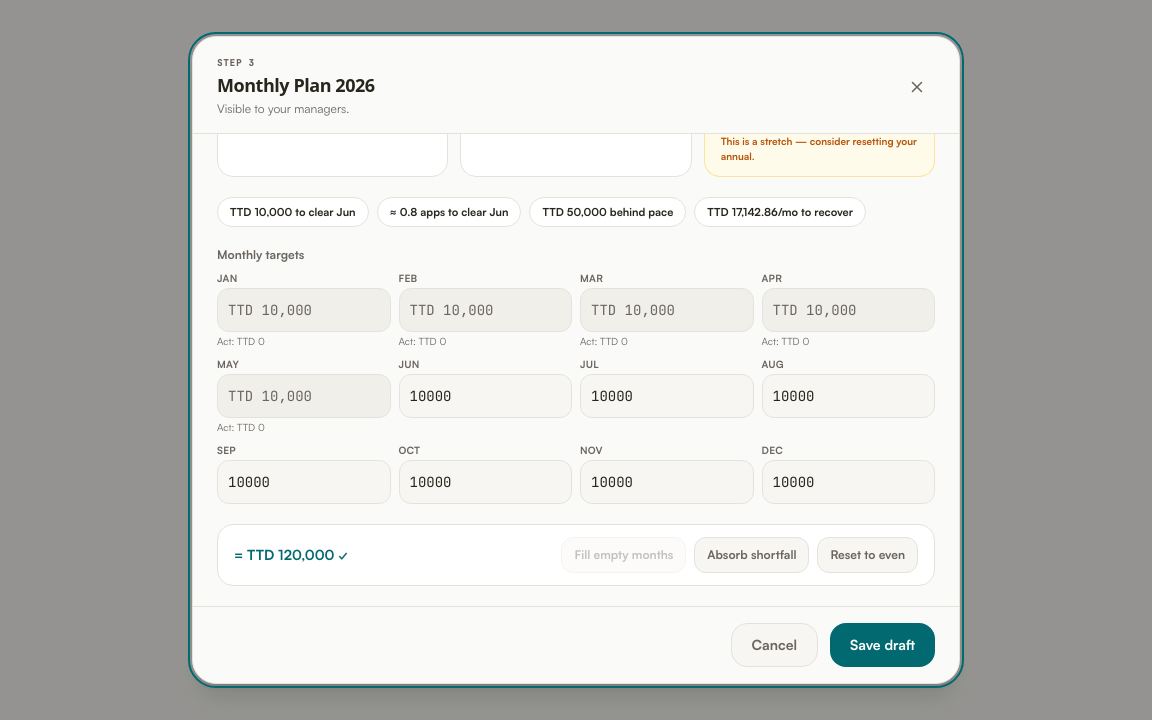
Test: MonthlyPlanModal — edit behavior › fill-empty-months fills cleared months and re-enables Save
(page scrolled)
Clear December (the last editable/future month) to 0 → under-allocated.
Replace the text in the number field named "Dec target" with "0" at (848, 482), box [762,460,935,504]
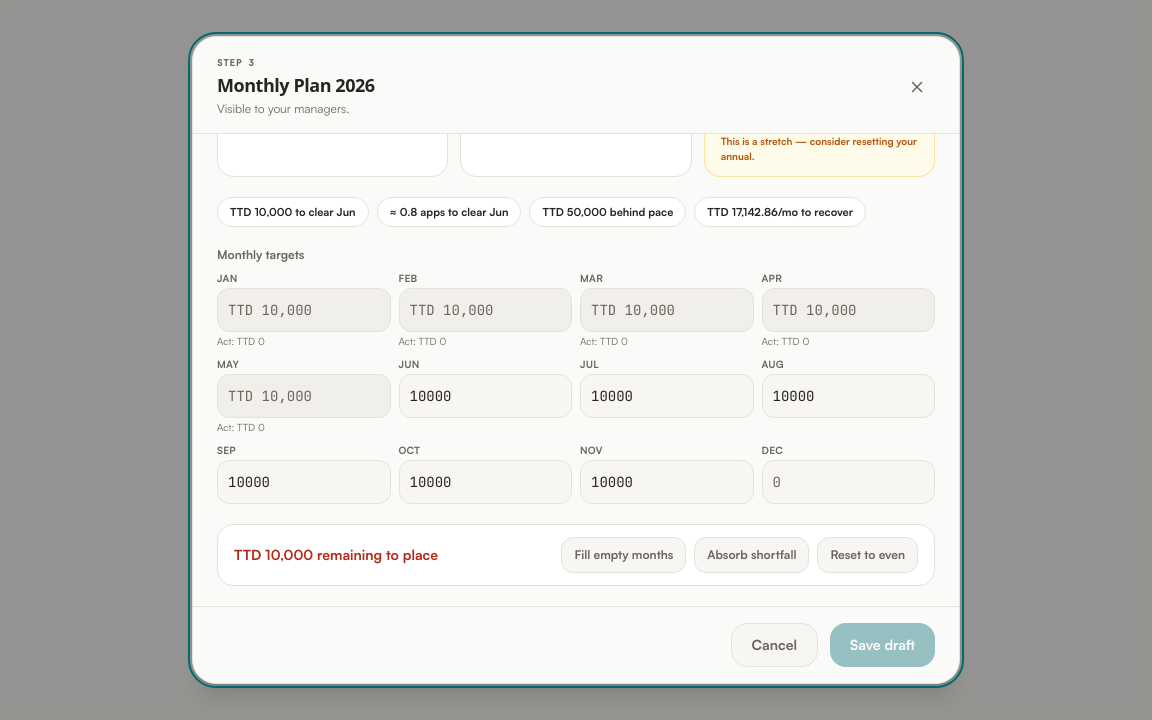
Now the button "Save draft" is disabled, box [830,623,935,667]
Fill empty months spreads the remainder into the cleared month → balanced.
Click the button with test id "auto-distribute-btn" at (624, 555), box [561,537,686,573]
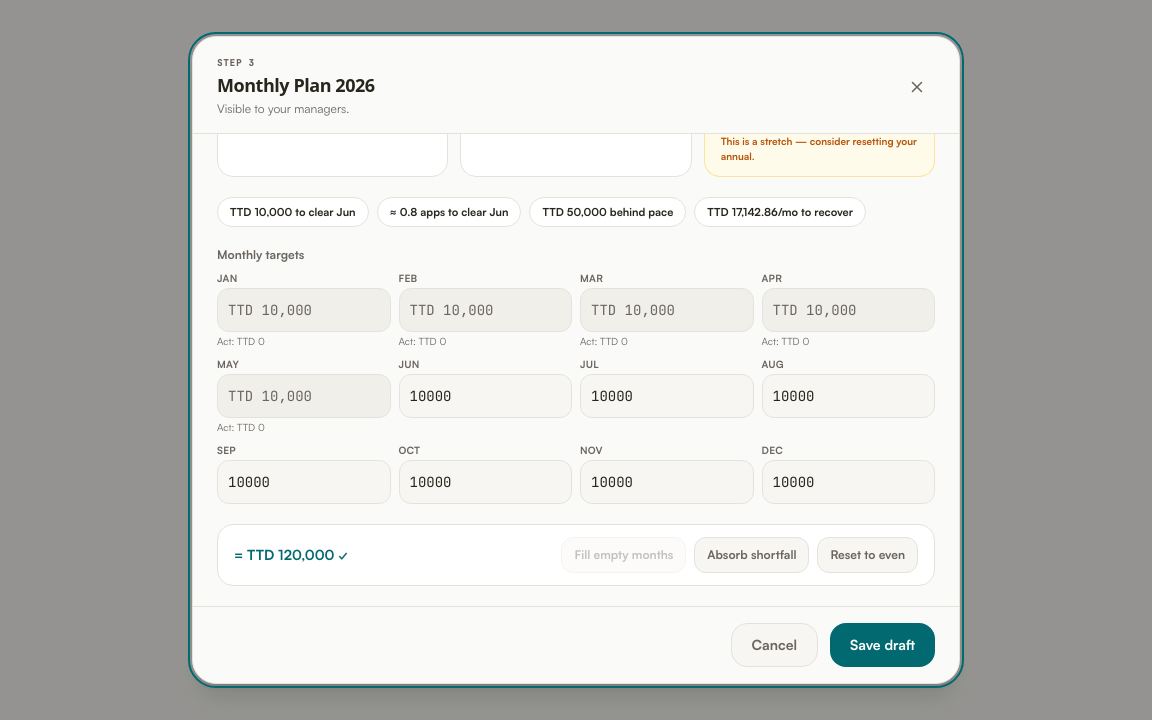
Now the button "Save draft" is enabled, box [830,623,935,667]
Now the text with test id "balance-pill" shows "✓", box [234,546,348,563]
